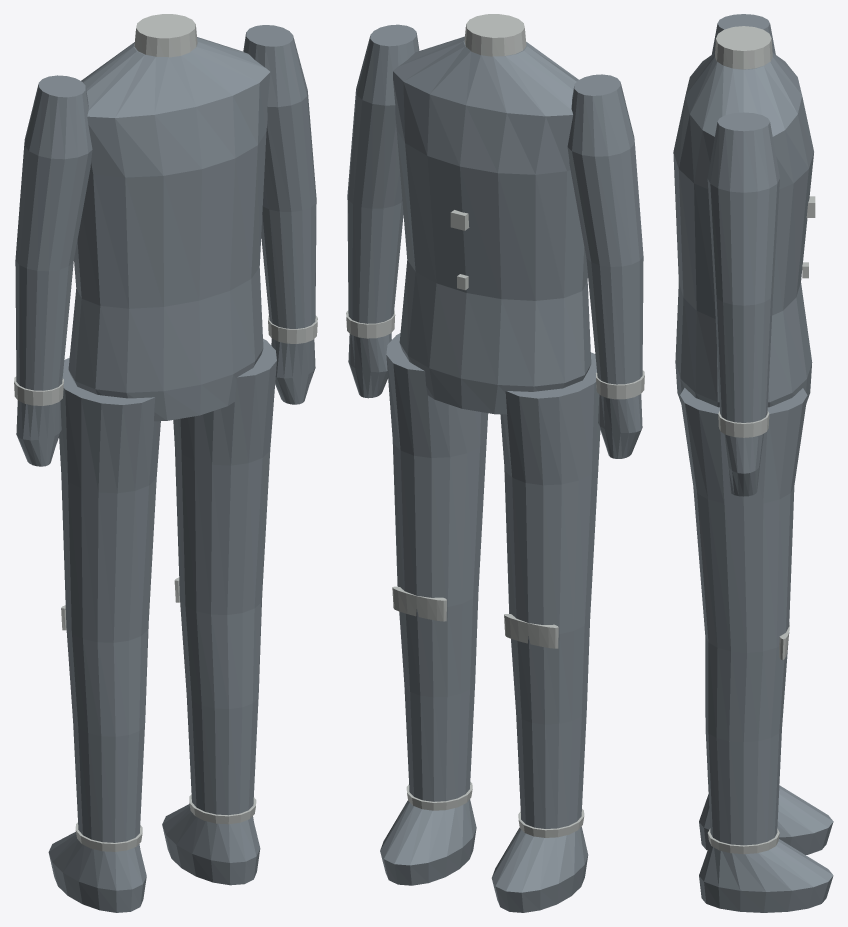
Rendered from visual-far.glb.
3 renders of one model, left to right at view 1: azimuth 30°, elevation 25°; view 2: azimuth 150°, elevation 25°; view 3: azimuth 270°, elevation 25°, orthographic. The views are drawn at different scales.
Visible parts, largest first — view 1: 精细体素老年身体母版; view 2: 精细体素老年身体母版; view 3: 精细体素老年身体母版.
Boxes of the visible parts, <box> form: 精细体素老年身体母版: <box>14,14,317,912</box>; 精细体素老年身体母版: <box>346,14,644,912</box>; 精细体素老年身体母版: <box>673,14,833,912</box>.
Size of the model in its own units: 0.5128 by 1.41 by 0.2461.
2 materials, 2 textured.
